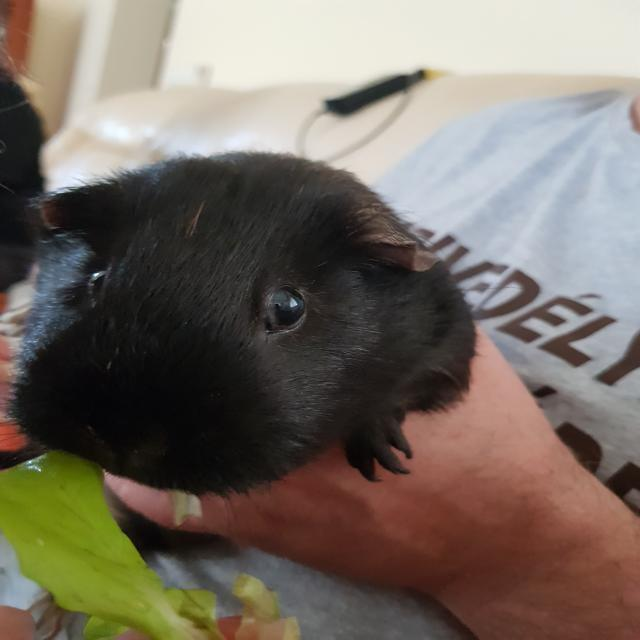guinea pig: (0, 147, 490, 496)
